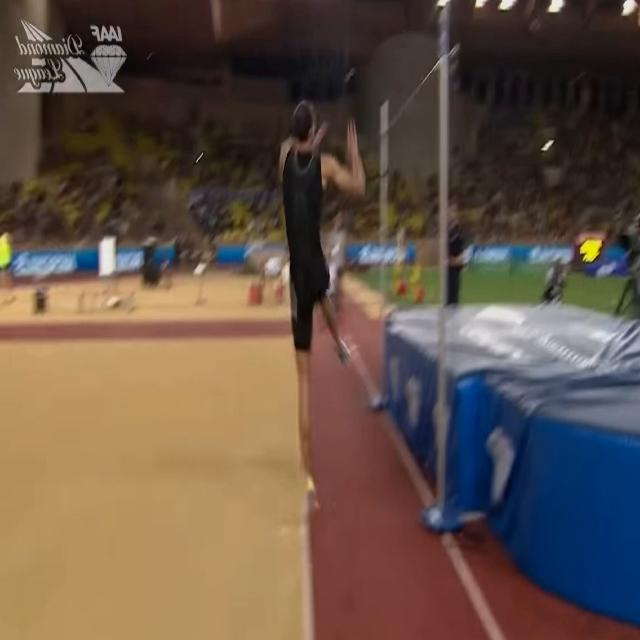jump: (280, 101, 390, 512)
